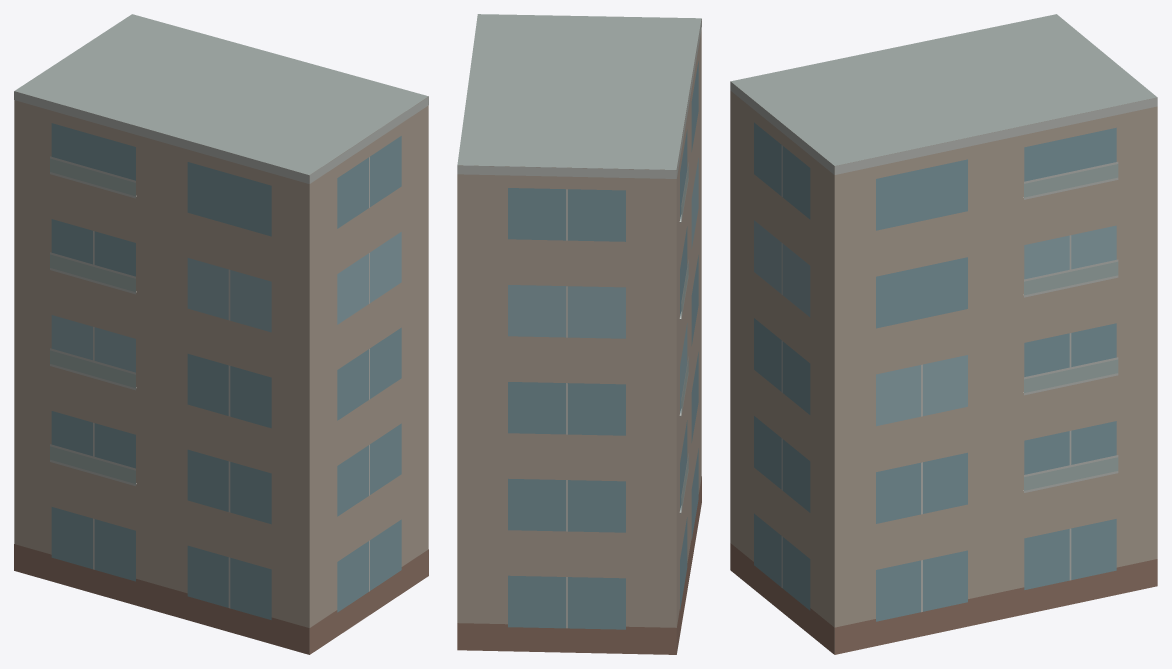
The model's file is survey-upis-32503850.glb.
The picture shows the model from 3 angles, left to right: view 1: azimuth 30°, elevation 25°; view 2: azimuth 150°, elevation 25°; view 3: azimuth 270°, elevation 25°; orthographic projection.
Parts seen in each view (by area): view 1: survey-upis-32503850.tmp; view 2: survey-upis-32503850.tmp; view 3: survey-upis-32503850.tmp.
Boxes of the visible parts, box(x1,y1,x2,y2) form: survey-upis-32503850.tmp: box(14, 14, 428, 654); survey-upis-32503850.tmp: box(457, 14, 701, 654); survey-upis-32503850.tmp: box(730, 14, 1157, 654).
Bounding box in the file's own units: 8.75 × 13.1 × 10.38.
